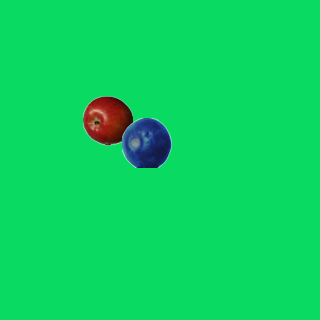Apple Braeburn: (82, 95, 132, 145)
Huckleberry: (121, 117, 171, 167)
